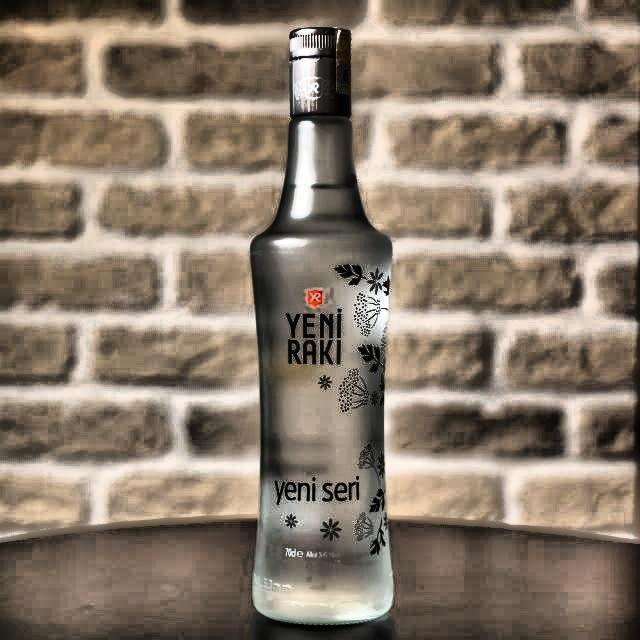glass: (249, 28, 395, 629)
